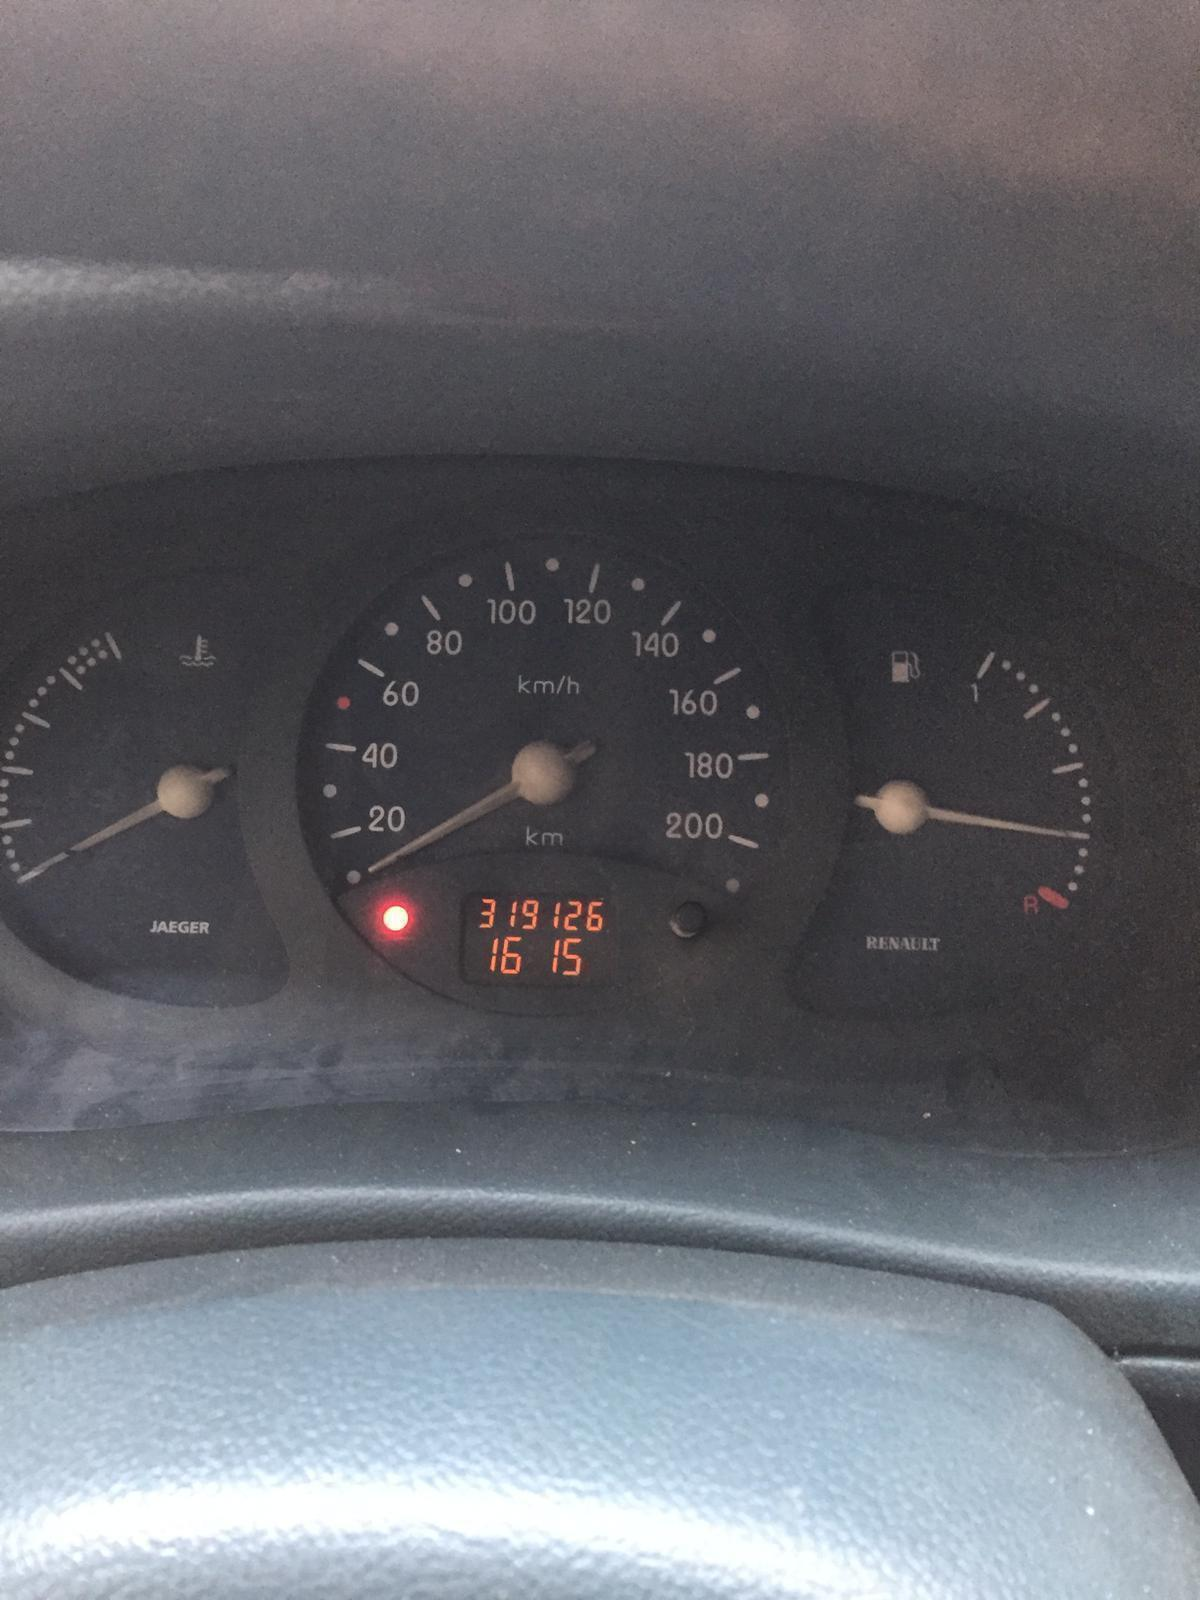1: (488, 937, 499, 973), (551, 939, 558, 973), (552, 901, 561, 929), (509, 900, 517, 929)
2: (563, 900, 582, 931)
3: (476, 898, 495, 929)
5: (561, 937, 582, 975)
6: (500, 935, 523, 974), (585, 901, 603, 931)
9: (521, 900, 539, 930)
odometer: (456, 889, 620, 989)
